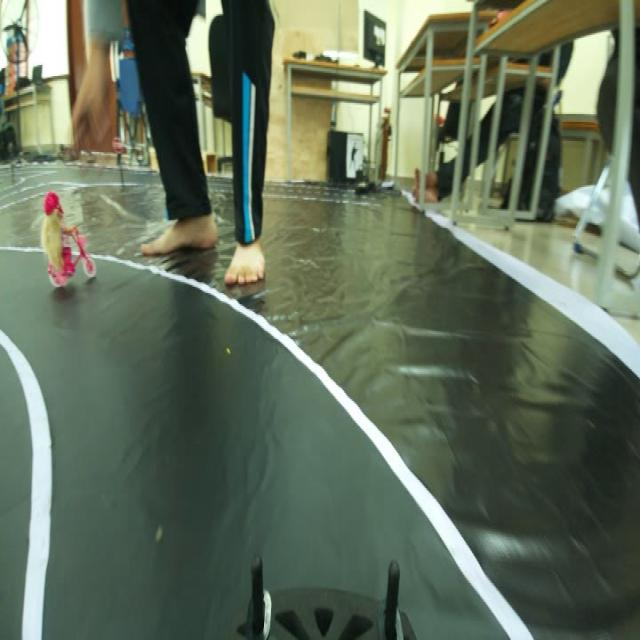pedestrian: (30, 192, 100, 296)
